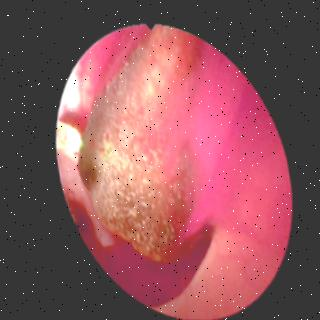stone: (74, 25, 194, 260)
tissue: (61, 52, 285, 308)
